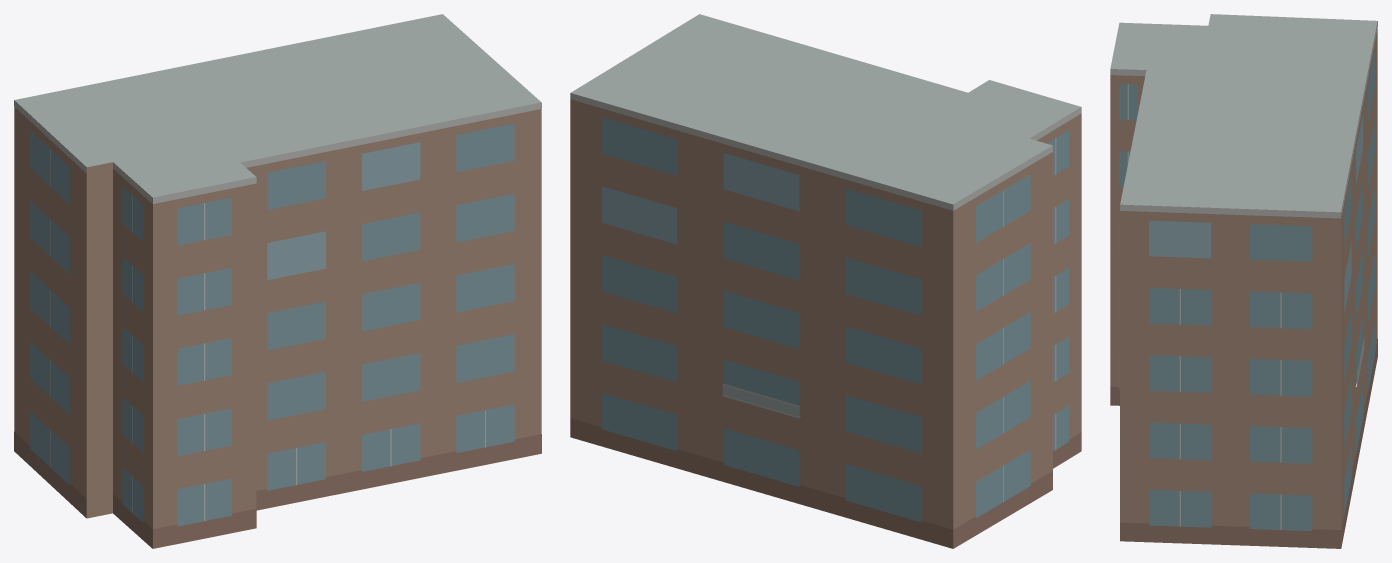
The model's file is survey-upis-33043118.glb.
3 views of the same model, side by side, from view 1: azimuth 30°, elevation 25°; view 2: azimuth 150°, elevation 25°; view 3: azimuth 270°, elevation 25° (orthographic). The views are drawn at different scales.
Parts seen in each view (by area): view 1: survey-upis-33043118.tmp; view 2: survey-upis-33043118.tmp; view 3: survey-upis-33043118.tmp.
Part boxes in pixels (bbox=[...]): survey-upis-33043118.tmp: bbox=[14, 14, 541, 548]; survey-upis-33043118.tmp: bbox=[570, 14, 1081, 548]; survey-upis-33043118.tmp: bbox=[1110, 14, 1377, 548].
Bounding box in the file's own units: 16.88 × 13.35 × 9.62.
